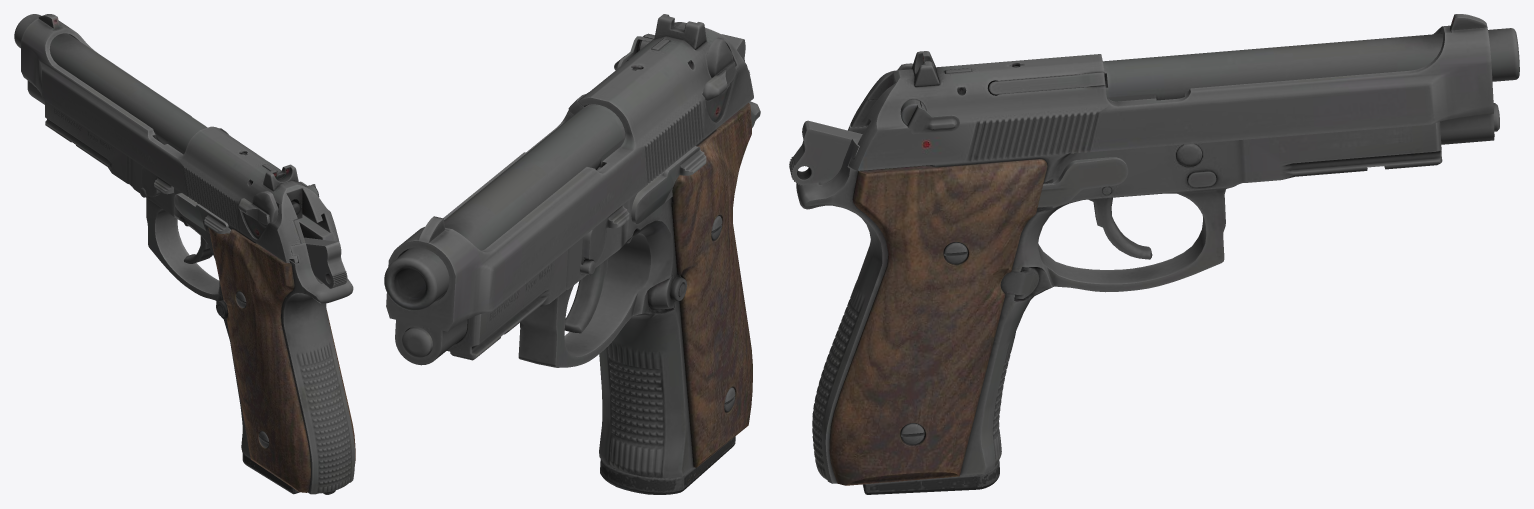
Rendered from elite_r.glb.
3 renders of one model, left to right at view 1: azimuth 30°, elevation 25°; view 2: azimuth 150°, elevation 25°; view 3: azimuth 270°, elevation 25°, orthographic. The views are drawn at different scales.
Parts seen in each view (by area): view 1: v_elite_R; view 2: v_elite_R; view 3: v_elite_R.
Part boxes in pixels (<box>): v_elite_R: <box>14,14,355,494</box>; v_elite_R: <box>384,14,760,494</box>; v_elite_R: <box>789,14,1519,494</box>.
Size of the model in its own units: 0.0586 by 0.1738 by 0.2636.
1 material, 1 textured.
